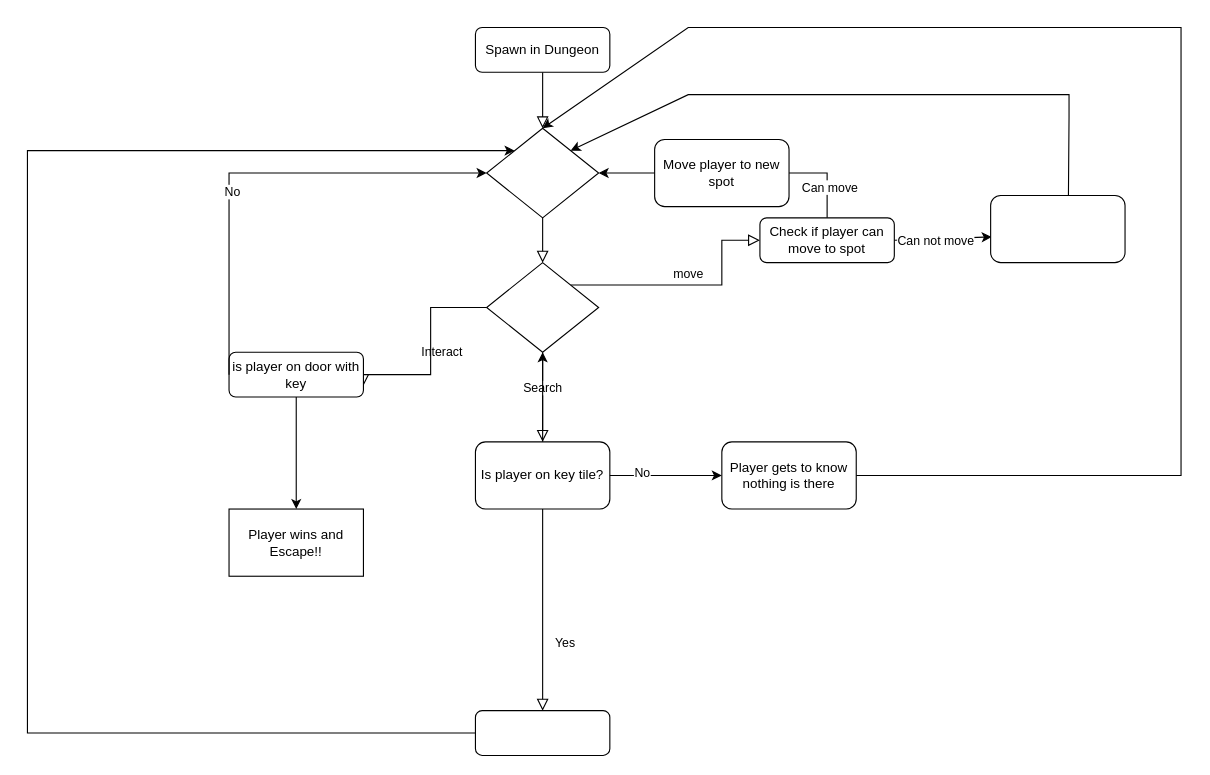
Some shapes in this 1210 by 775 pixel diagram are drawn without their labels. The shapes that lost their labels are listed below. From the top down, each one's box as (x1, y1, x2, y2) in pixels, then its label:
(486, 127, 599, 218): Check where player is
(990, 194, 1125, 263): Display error
(486, 262, 599, 352): Player move, Interact, search
(474, 710, 610, 755): Player gets key
